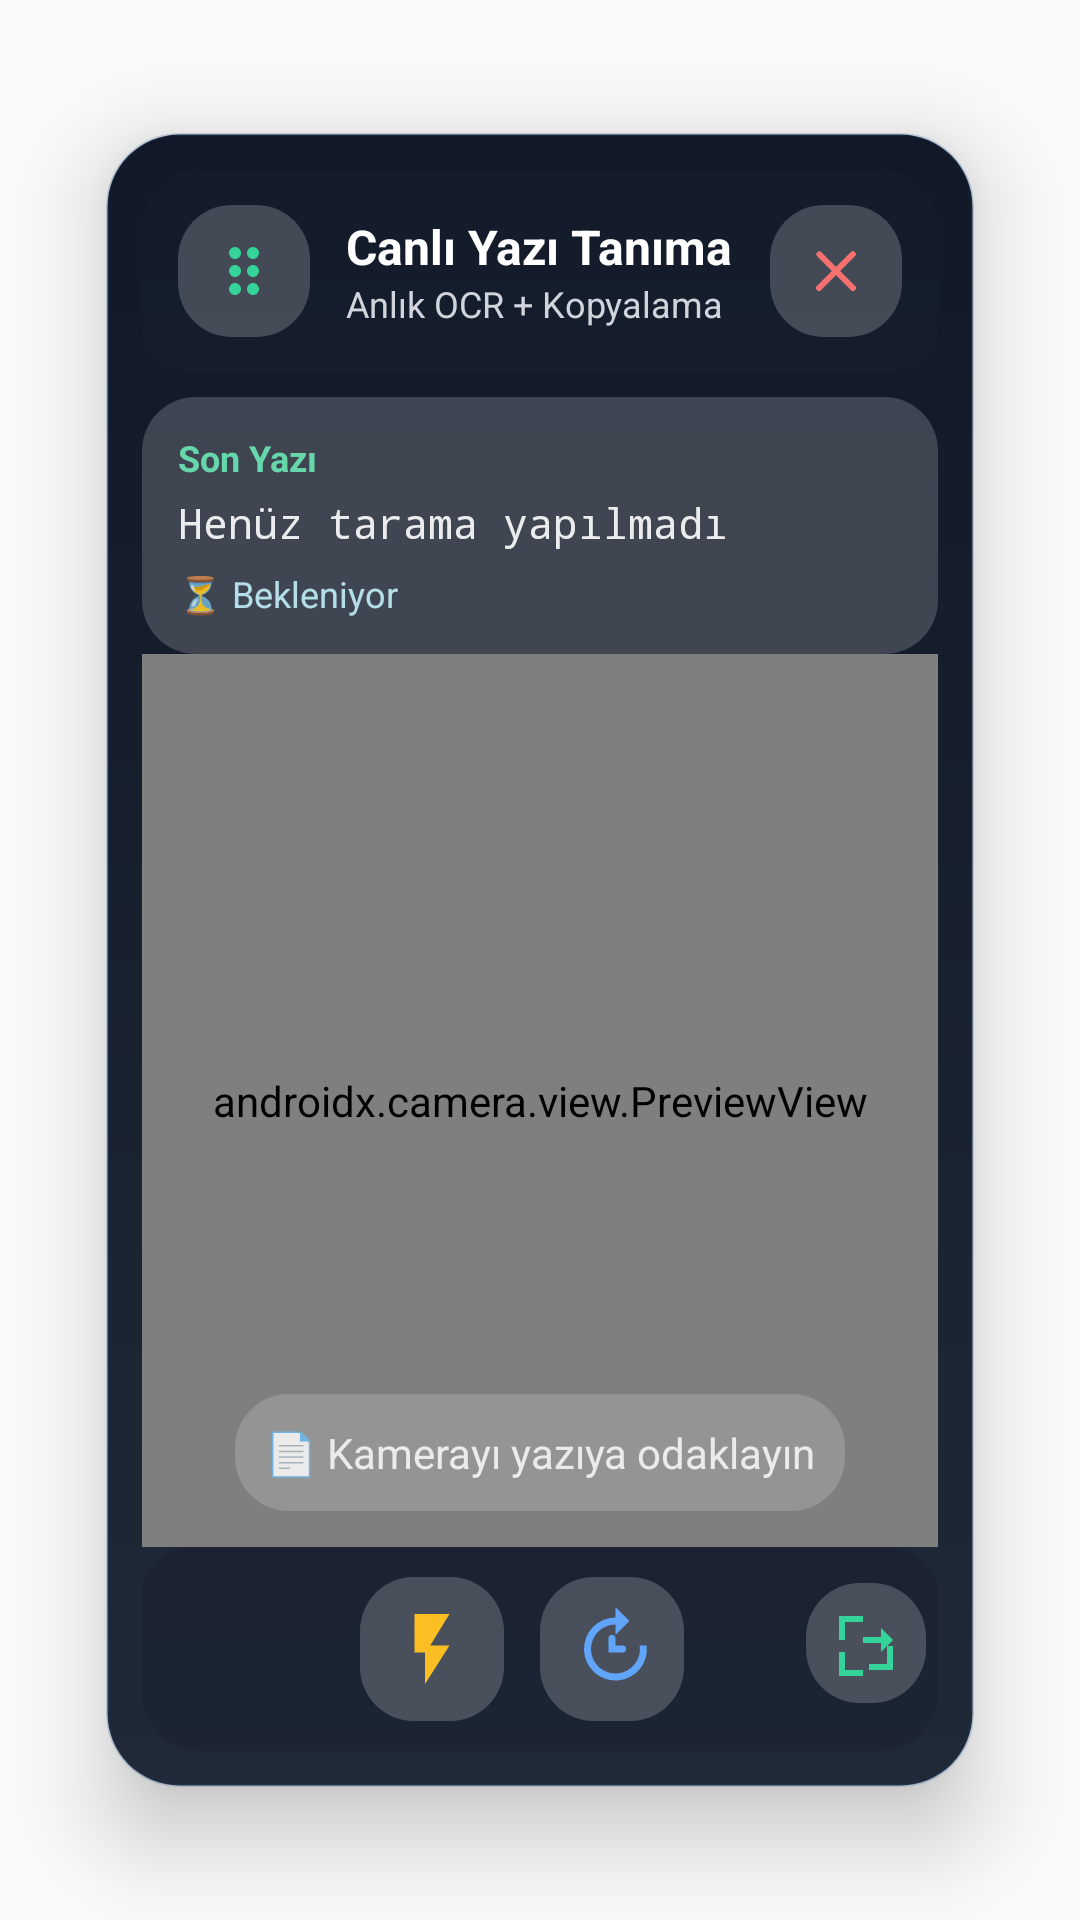

Icon bounding boxes for this 1080px x 1920px phone screenshot, format {"left": x1, "top": y1, "right": x2, "bottom": y2}:
Flaş: {"left": 360, "top": 1577, "right": 504, "bottom": 1721}
Kapat: {"left": 770, "top": 205, "right": 902, "bottom": 337}
Taşı: {"left": 178, "top": 205, "right": 310, "bottom": 337}
